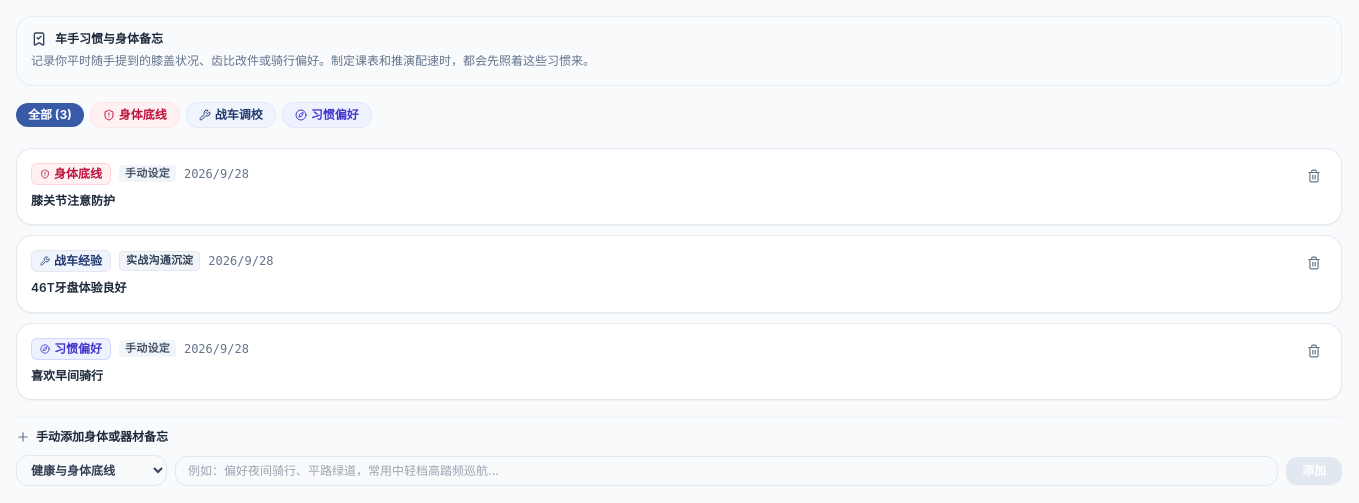
Test: MemoriesTab 语义记忆列表 › 展示全部计数并支持分类过滤
Expected: the button "全部 (3)" is shown, [16, 102, 84, 126]
过滤到 战车调校：只显示 gear 分类
Click the button "战车调校": click(231, 114) [186, 102, 276, 128]
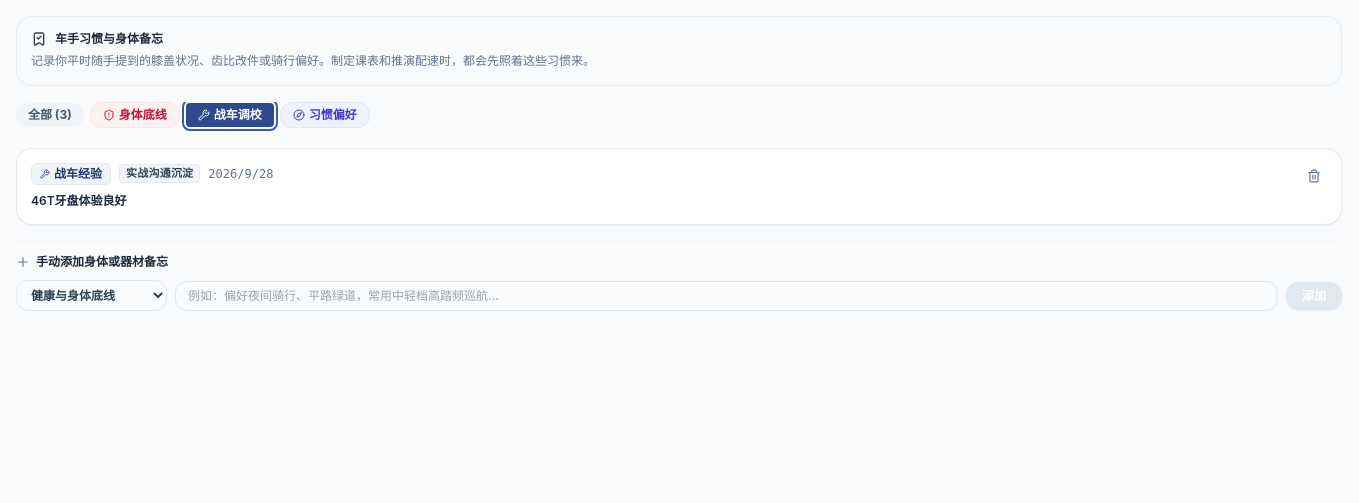
Expected: the text "46T牙盘体验良好" is shown, [31, 192, 127, 208]
Result: the text "膝关节注意防护" is gone
Result: the text "喜欢早间骑行" is gone
过滤到 身体底线：只显示 health
Click the button "身体底线": click(135, 114) [90, 102, 180, 128]
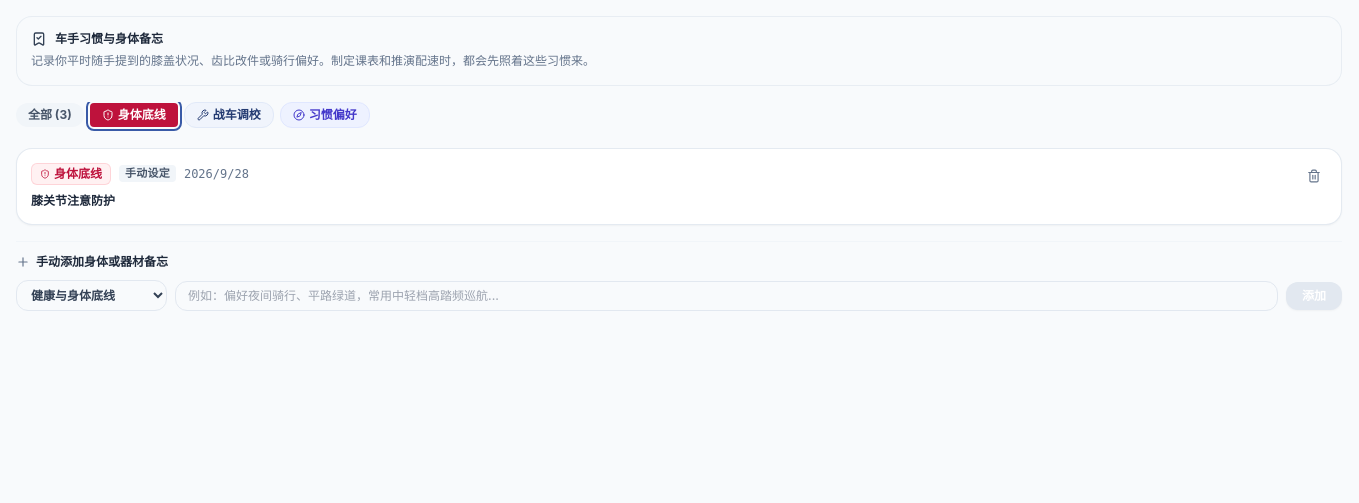
Result: the text "膝关节注意防护" is shown at [31, 192, 115, 208]
Result: the text "46T牙盘体验良好" is gone
